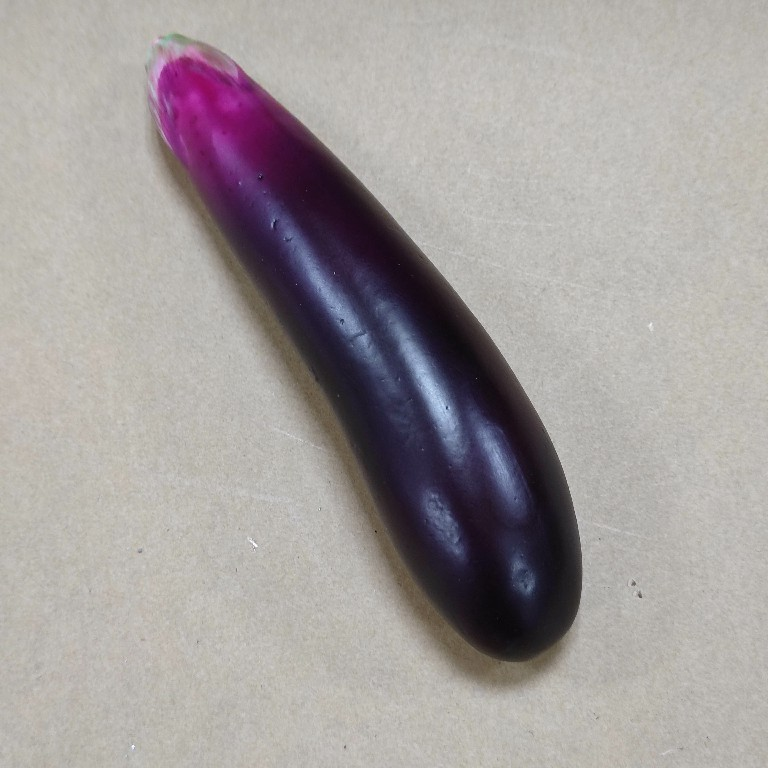fruit_eggplant: (137, 30, 590, 667)
